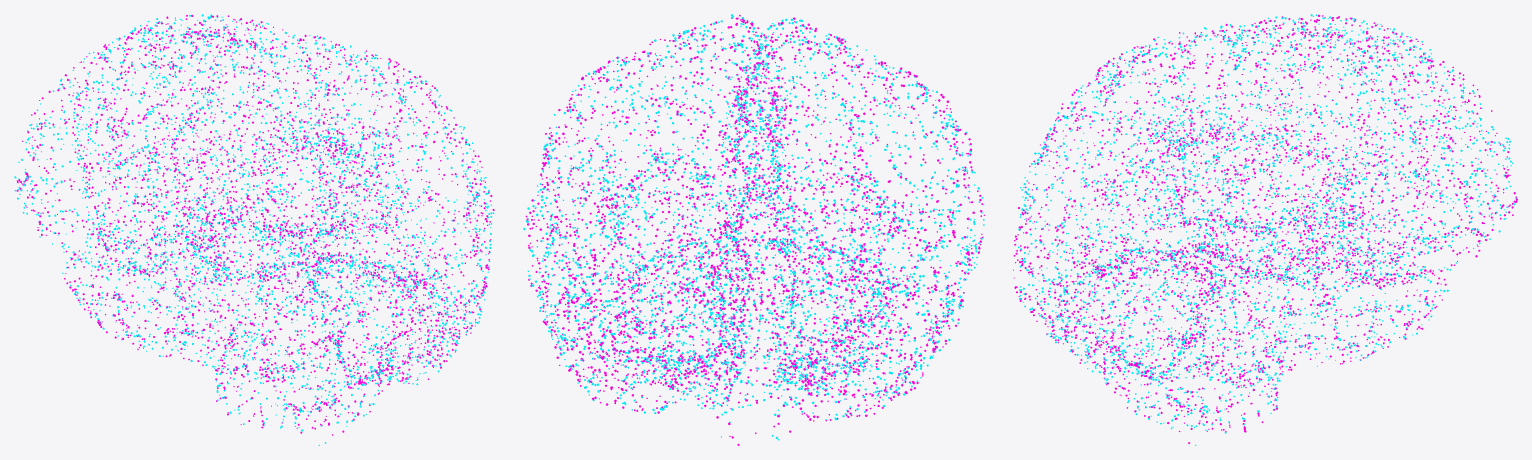
File: brain_hologram_opt.glb
3 views of the same model, side by side, from view 1: azimuth 30°, elevation 25°; view 2: azimuth 150°, elevation 25°; view 3: azimuth 270°, elevation 25° (orthographic). The views are drawn at different scales.
Visible parts, largest first — view 1: Icosphere.001; view 2: Icosphere.001; view 3: Icosphere.001.
Boxes of the visible parts, bbox=[...] form: Icosphere.001: bbox=[14, 14, 494, 445]; Icosphere.001: bbox=[523, 14, 984, 445]; Icosphere.001: bbox=[1013, 14, 1517, 445].
Size of the model in its own units: 1.09 by 1.1 by 1.3.
